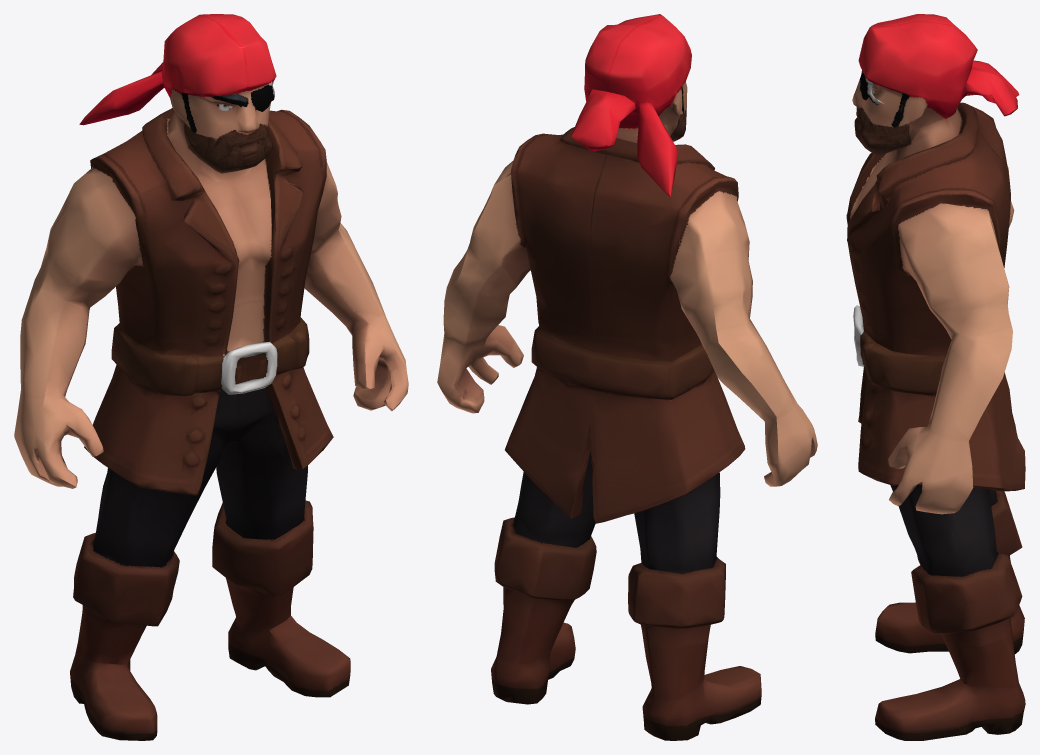
Rendered from pirata.glb.
3 renders of one model, left to right at view 1: azimuth 30°, elevation 25°; view 2: azimuth 150°, elevation 25°; view 3: azimuth 270°, elevation 25°, orthographic. The views are drawn at different scales.
Parts seen in each view (by area): view 1: world; view 2: world; view 3: world.
Boxes of the visible parts, x1,y1,x2,y2 form: world: (14,14,408,740); world: (437,14,817,740); world: (846,14,1025,740).
Size of the model in its own units: 0.5735 by 0.9984 by 0.2434.
Materials: 1 (1 with a texture image).
